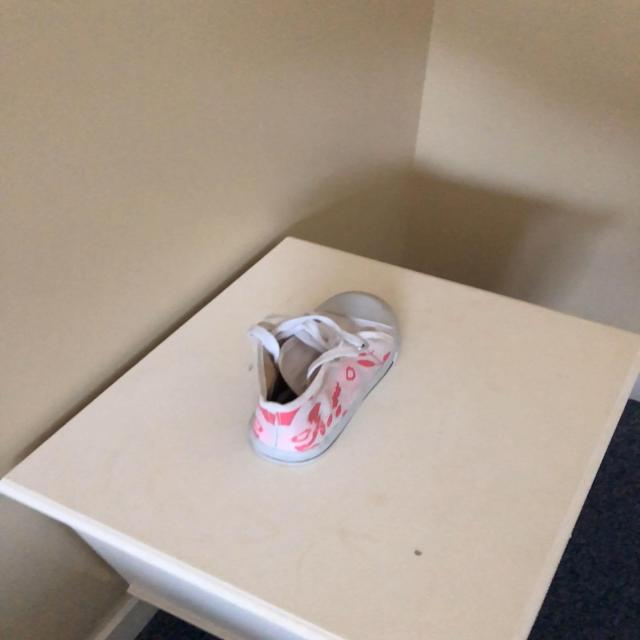shoe: (246, 287, 403, 468)
